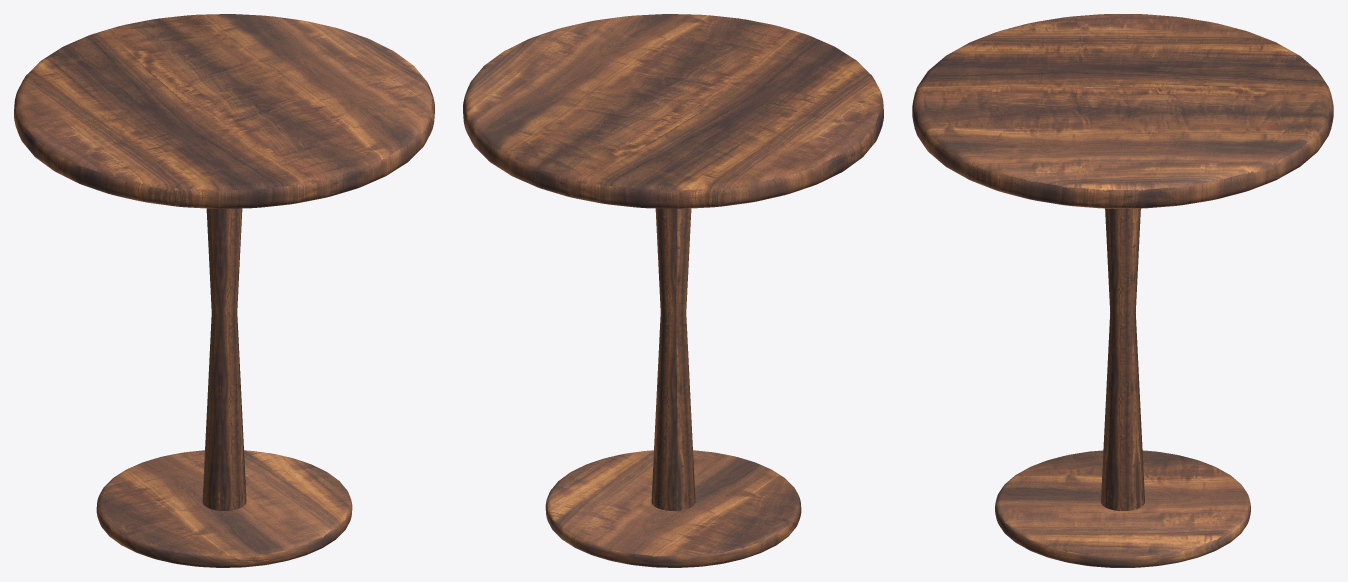
Rendered from walnut5ped.glb.
The picture shows the model from 3 angles, left to right: view 1: azimuth 30°, elevation 25°; view 2: azimuth 150°, elevation 25°; view 3: azimuth 270°, elevation 25°; orthographic projection.
Visible parts, largest first — view 1: Cylinder, Cylinder.001, Cylinder.002; view 2: Cylinder, Cylinder.001, Cylinder.002; view 3: Cylinder, Cylinder.001, Cylinder.002.
Boxes of the visible parts, left/top/right/bottom form: Cylinder: left=14, top=14, right=434, bottom=208; Cylinder.001: left=96, top=450, right=352, bottom=567; Cylinder.002: left=202, top=208, right=246, bottom=510; Cylinder: left=463, top=14, right=883, bottom=208; Cylinder.001: left=545, top=450, right=801, bottom=567; Cylinder.002: left=651, top=208, right=695, bottom=510; Cylinder: left=912, top=14, right=1333, bottom=208; Cylinder.001: left=995, top=450, right=1250, bottom=567; Cylinder.002: left=1101, top=208, right=1144, bottom=510.
Size of the model in its own units: 1.99 by 2.17 by 2.
Materials: 2 (2 with a texture image).
